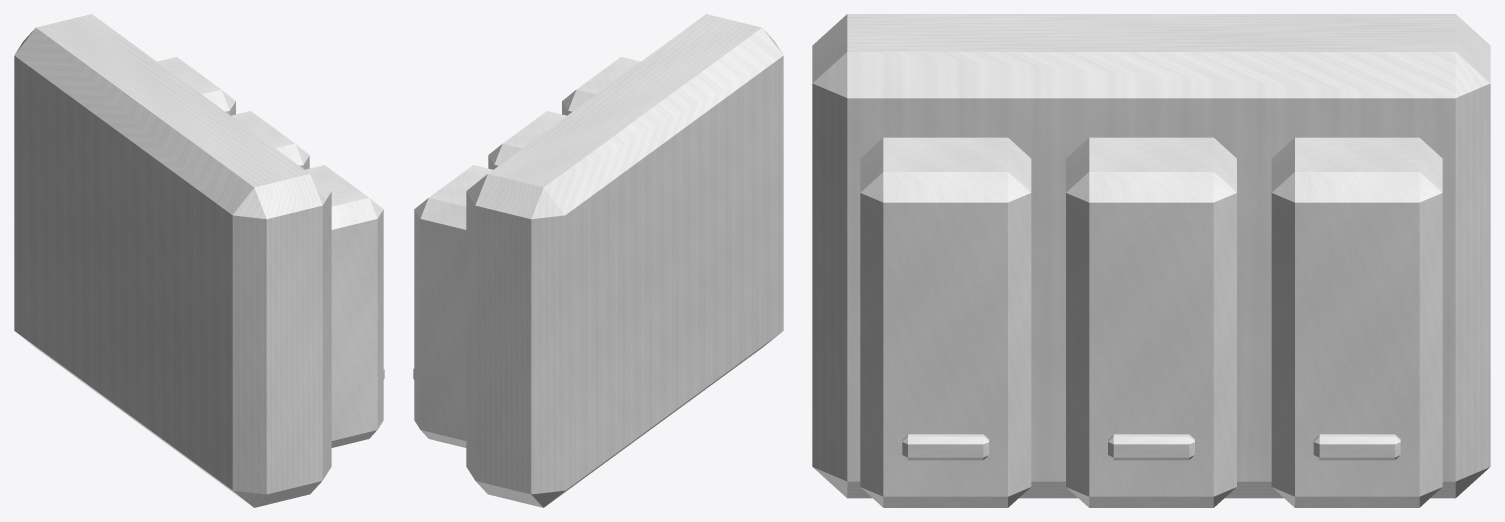
Rendered from Field_Medic_Cartridge_Rack_LOD0.glb.
3 renders of one model, left to right at view 1: azimuth 30°, elevation 25°; view 2: azimuth 150°, elevation 25°; view 3: azimuth 270°, elevation 25°, orthographic. The views are drawn at different scales.
Visible parts, largest first — view 1: Field_Medic_Cartridge_Rack_LOD0; view 2: Field_Medic_Cartridge_Rack_LOD0; view 3: Field_Medic_Cartridge_Rack_LOD0.
Part boxes in pixels (x1,y1,x2,y2): Field_Medic_Cartridge_Rack_LOD0: (14,14,384,507); Field_Medic_Cartridge_Rack_LOD0: (413,14,783,507); Field_Medic_Cartridge_Rack_LOD0: (812,14,1490,507).
Size of the model in its own units: 0.0965 by 0.17 by 0.234.
Materials: 3 (3 with a texture image).
